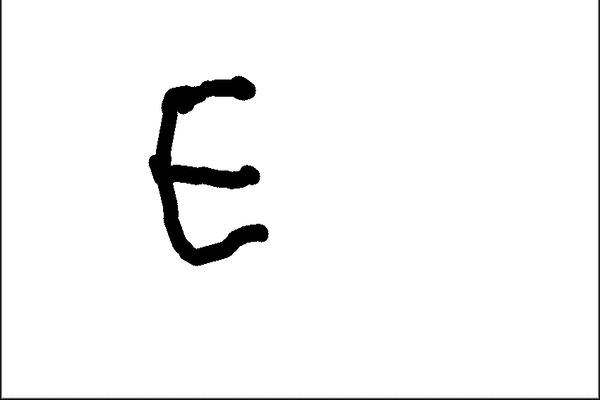E: (140, 70, 282, 268)
